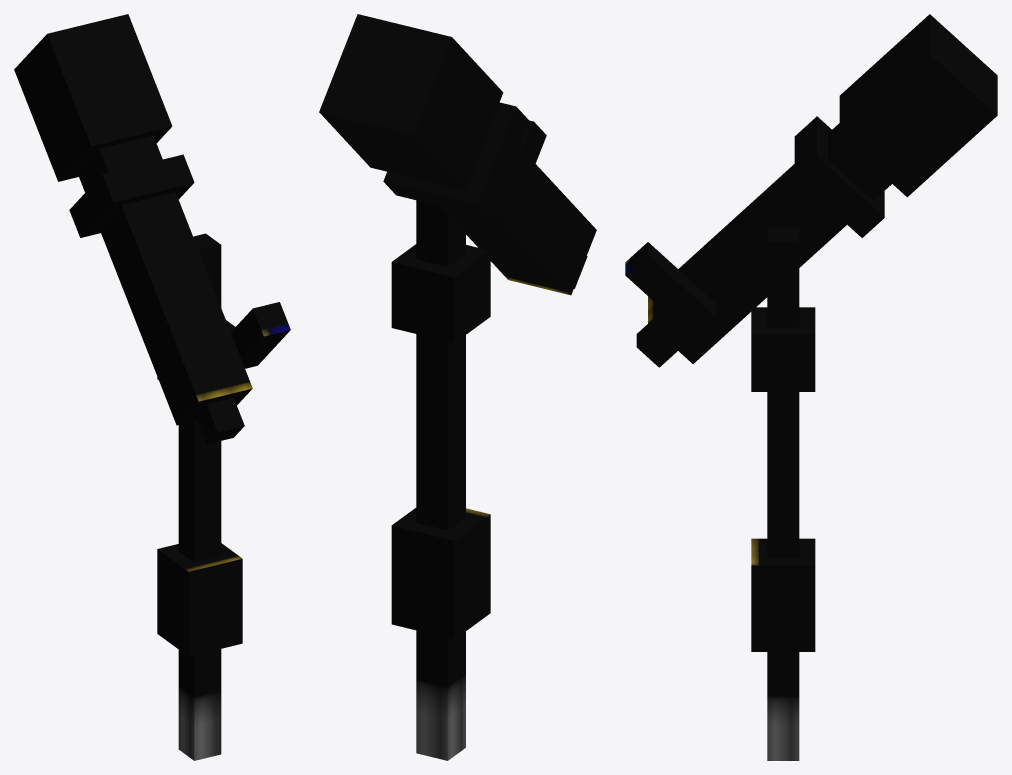
The model's file is telescope.obj.
3 renders of one model, left to right at view 1: azimuth 30°, elevation 25°; view 2: azimuth 150°, elevation 25°; view 3: azimuth 270°, elevation 25°, orthographic. The views are drawn at different scales.
Visible parts, largest first — view 1: opticalTube, aperture, leg, mountpiece_1, aperture_1, extension, detail; view 2: aperture, leg, opticalTube, mountpiece_1, mountpiece, aperture_1, extension; view 3: aperture, opticalTube, leg, mountpiece_1, mountpiece, aperture_1, extension, detail.
Boxes of the visible parts, x1,y1,x2,y2 form: opticalTube: (77, 135, 252, 425); aperture: (14, 14, 172, 181); leg: (178, 233, 221, 760); mountpiece_1: (157, 543, 242, 656); aperture_1: (69, 154, 194, 237); extension: (231, 302, 290, 368); detail: (196, 398, 244, 444); aperture: (319, 14, 503, 190); leg: (416, 200, 465, 760); opticalTube: (440, 118, 596, 295); mountpiece_1: (391, 508, 490, 639); mountpiece: (391, 244, 490, 343); aperture_1: (383, 102, 528, 218); extension: (519, 120, 546, 163); aperture: (839, 14, 997, 197); opticalTube: (648, 123, 891, 363); leg: (767, 227, 799, 760); mountpiece_1: (751, 538, 815, 651); mountpiece: (751, 307, 815, 391); aperture_1: (794, 116, 884, 237); extension: (625, 242, 715, 336); detail: (636, 324, 677, 367).
Bounding box in the file's own units: 0.5 × 3.03 × 1.46.
